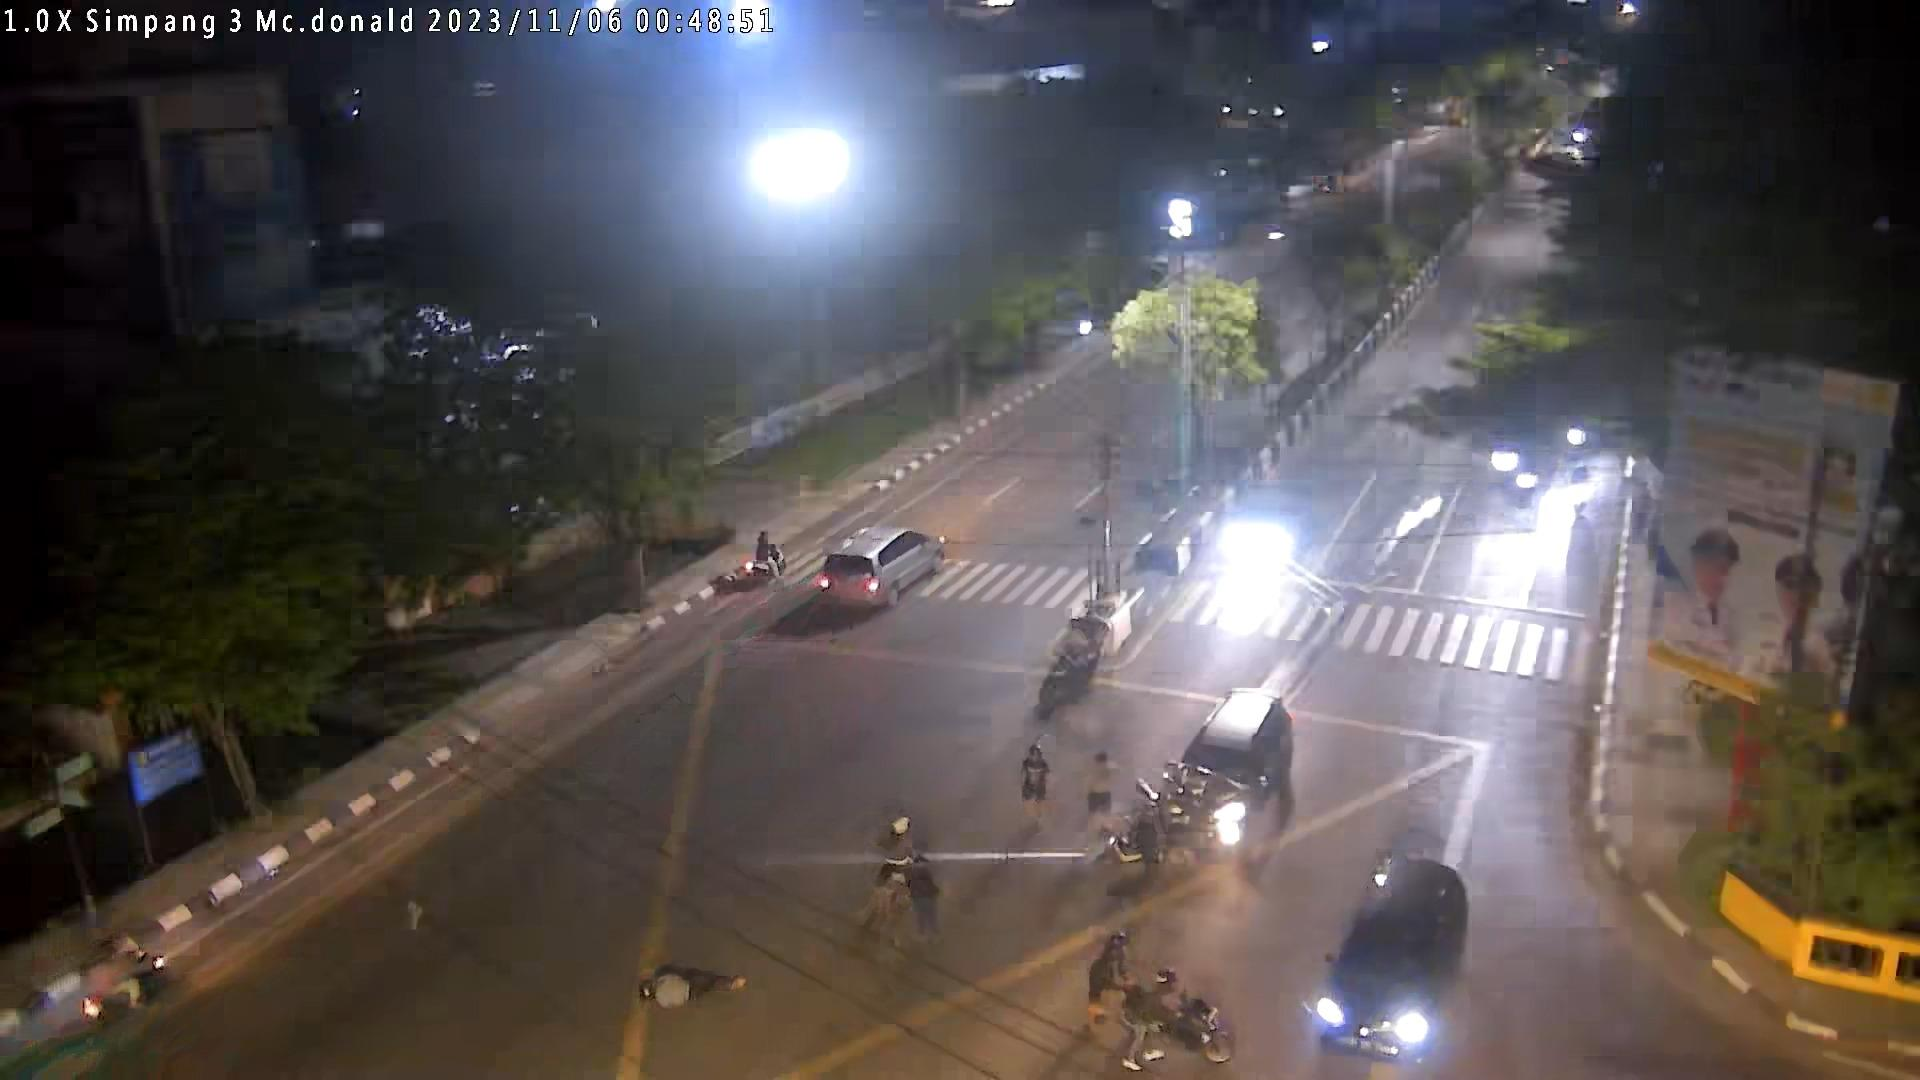accident: (640, 963, 748, 1010)
